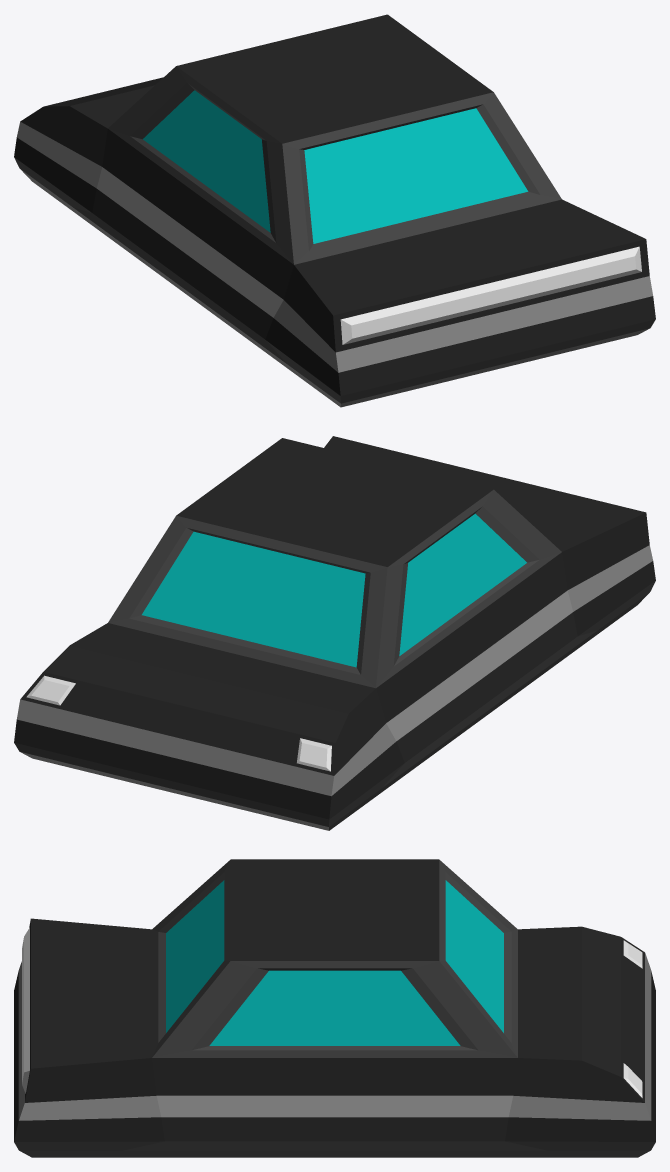
File: BasicHovercar.fbx
3 renders of one model, top to bottom at view 1: azimuth 30°, elevation 25°; view 2: azimuth 150°, elevation 25°; view 3: azimuth 270°, elevation 25°, orthographic.
Visible parts, largest first — view 1: BasicHovercar; view 2: BasicHovercar; view 3: BasicHovercar.
Part boxes in pixels (x1,y1,x2,y2): BasicHovercar: (14, 14, 655, 407); BasicHovercar: (14, 436, 655, 830); BasicHovercar: (14, 859, 655, 1157).
Bounding box in the file's own units: 250 × 136 × 448.
